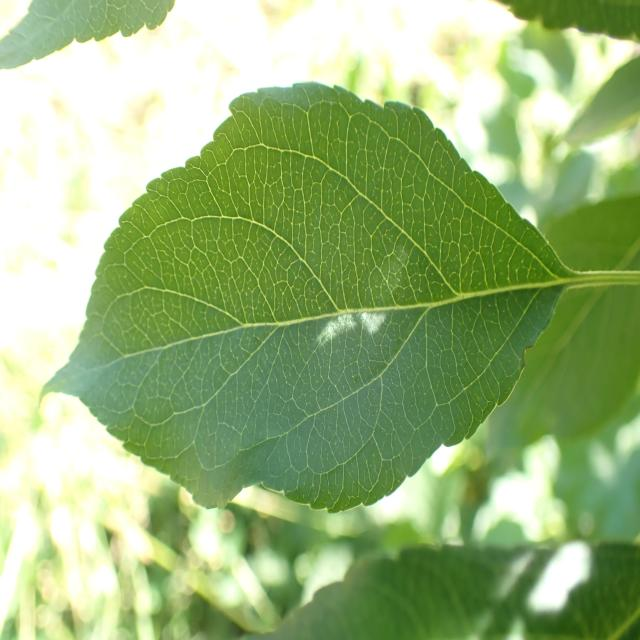healthy: (40, 81, 568, 514), (256, 537, 640, 640), (0, 0, 173, 71)
